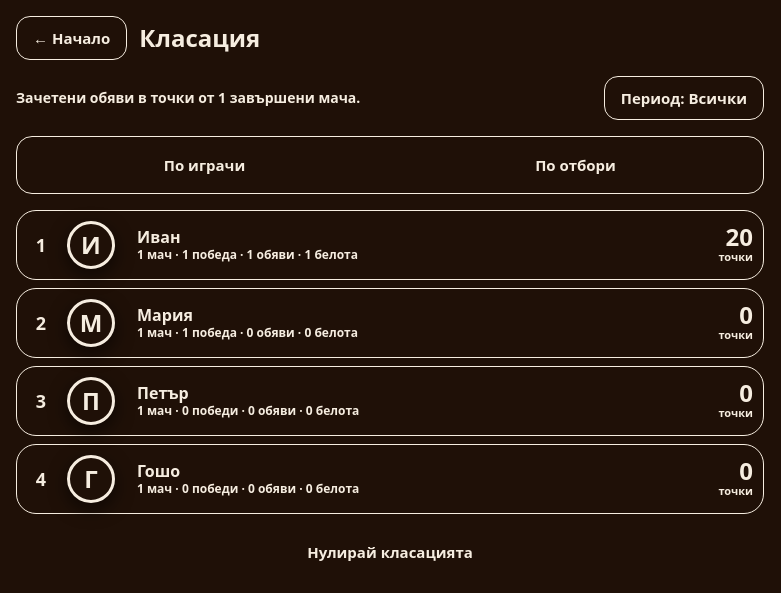
Scenario: Leaderboard › one recorded match › clears the leaderboard on the second press
This screenshot has width=781, height=593.
Expected: the heading "Класация" is shown, [139,22,260,54]
Click the button "Нулирай класацията" at (390, 552), box [291,530,489,574]
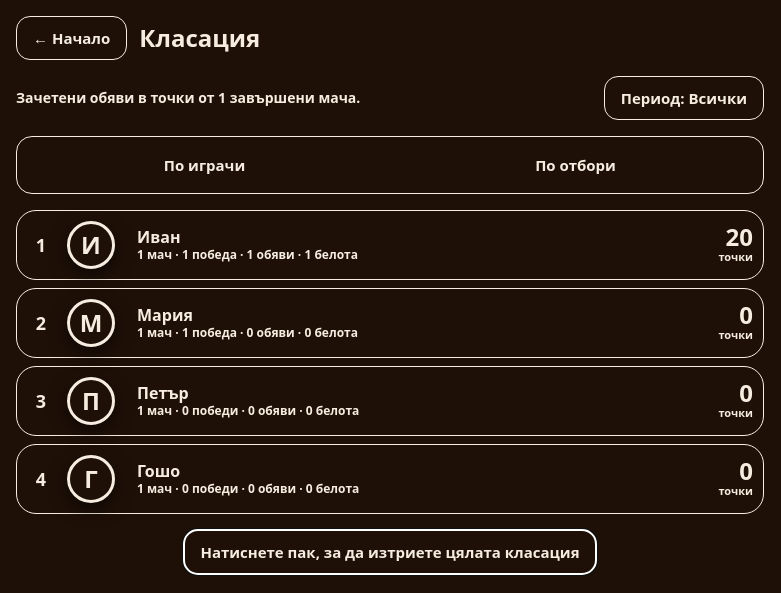
Click the button "Натиснете пак, за да изтриете цялата класация" at (390, 552), box [184,530,596,574]
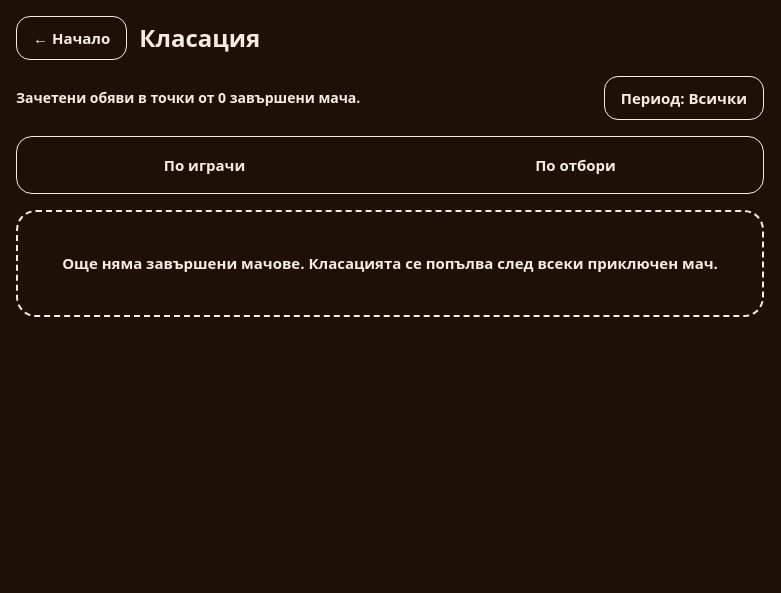
Expected: the button "Нулирай класацията" is not shown
Expected: the text "Още няма завършени мачове. Класацията се попълва след всеки приключен мач." is shown, [16,210,764,316]
